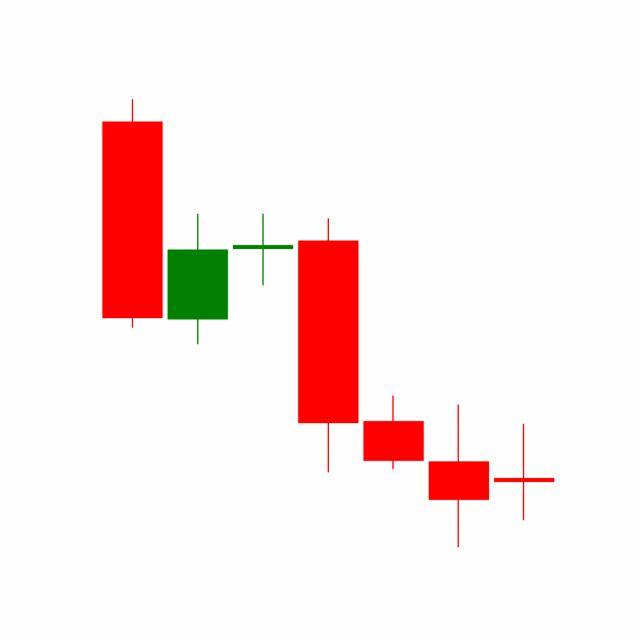Hikkake Pattern: (165, 210, 492, 549)
